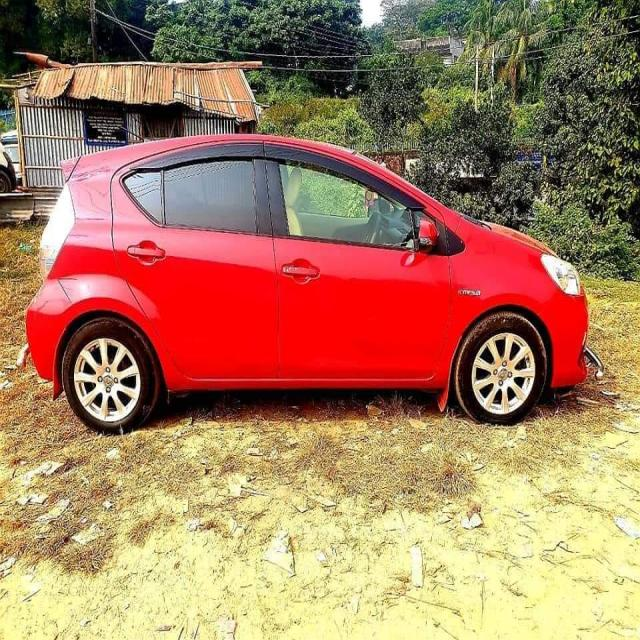red: (32, 132, 592, 427)
